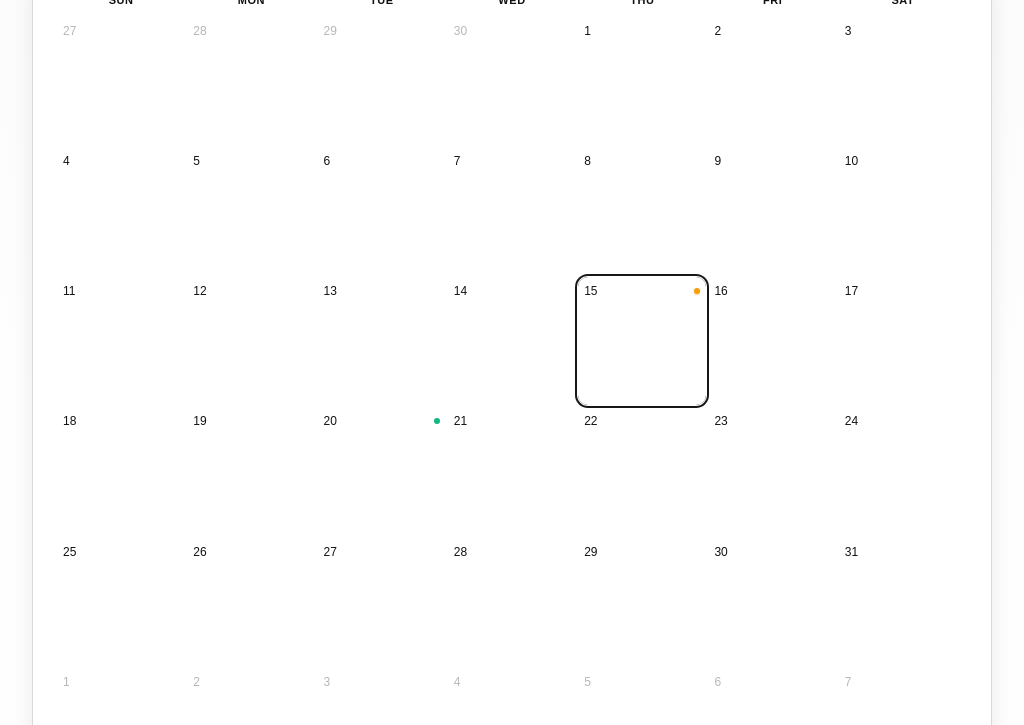
FinancialCalendar Page › displays reminder indicator dots on cells and opens day detail on click
This screenshot has width=1024, height=725.
(page scrolled)
Expected: the element with test id "reminder-indicator-2026-10-15" is shown, [694,288,700,294]
Click day cell for October 15
Click the button with test id "cal-day-2026-10-15" at (642, 341), box [578,277,706,405]
(page scrolled)
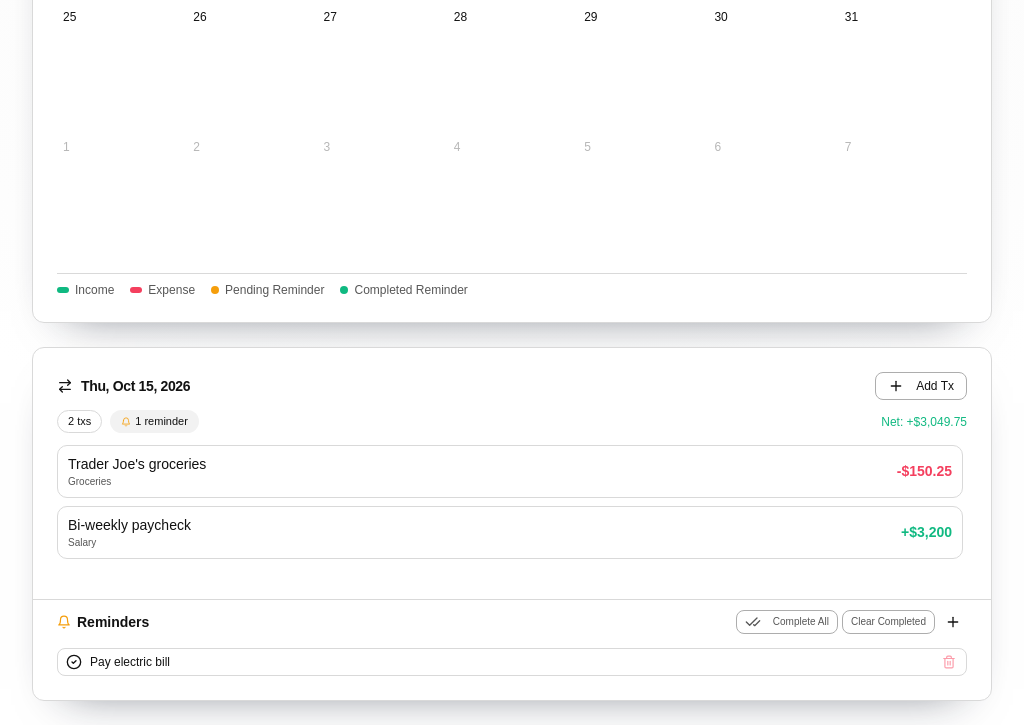
Result: the text "Thu, Oct 15, 2026" is shown at [57,376,190,396]
Result: the text "2 txs" is shown at [57,410,102,433]
Result: the text "1 reminder" is shown at [110,410,199,433]
